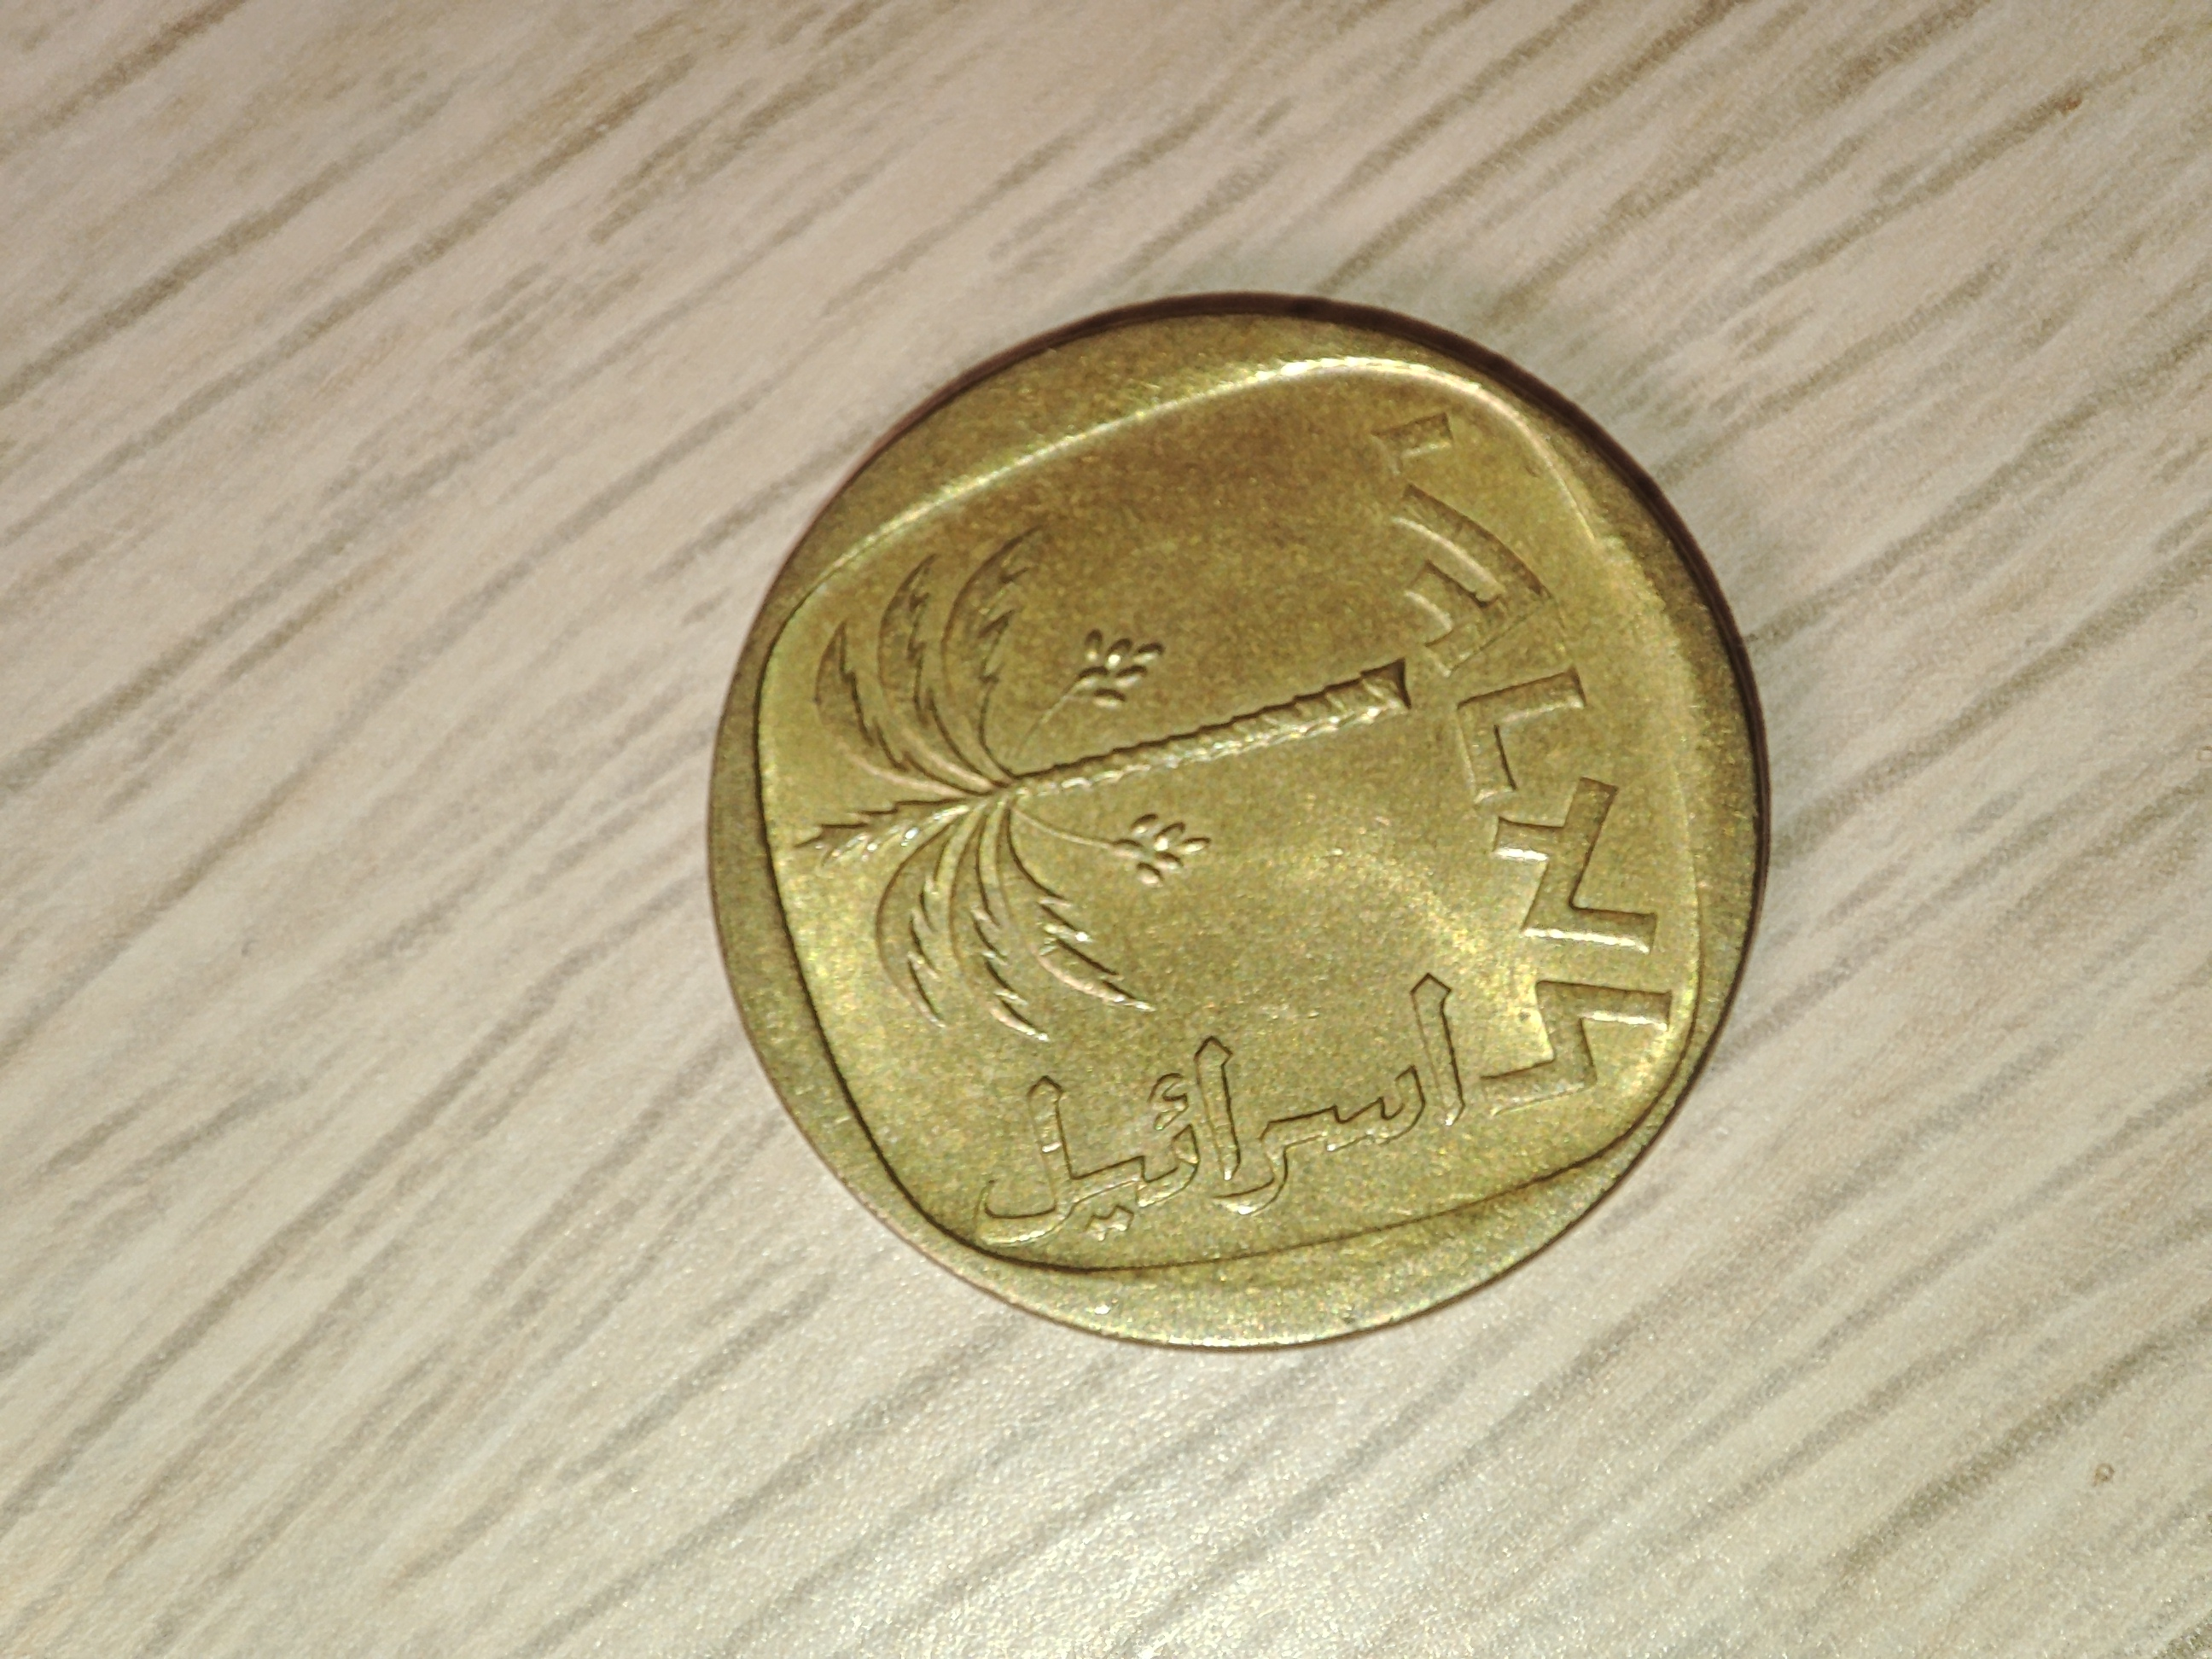10 old agora brown: (695, 295, 1773, 1358)
